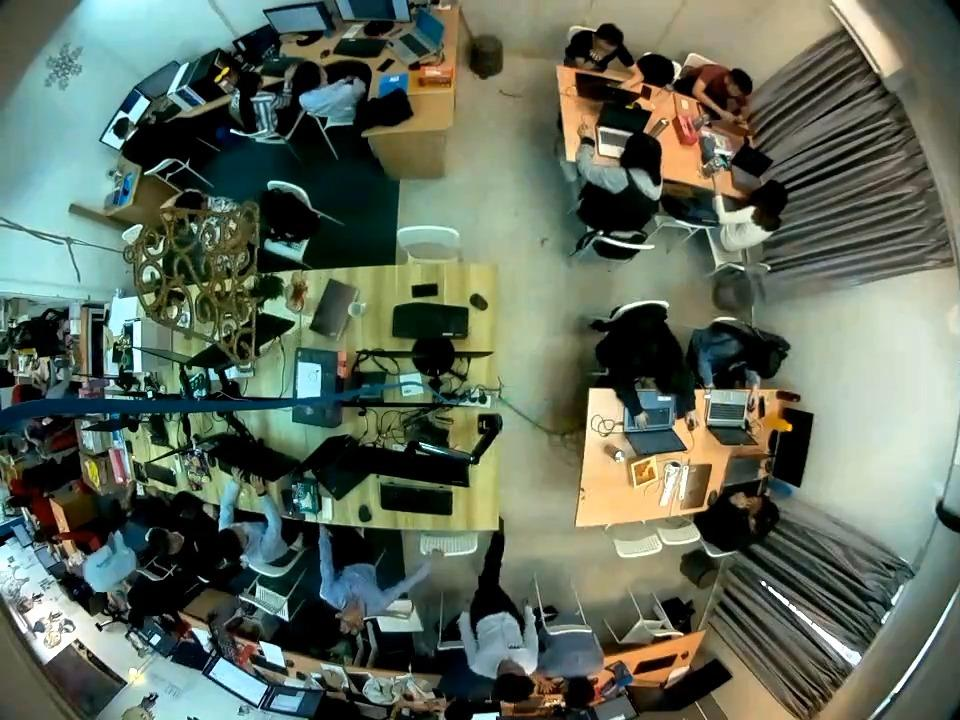name-tag: (507, 642, 521, 652)
